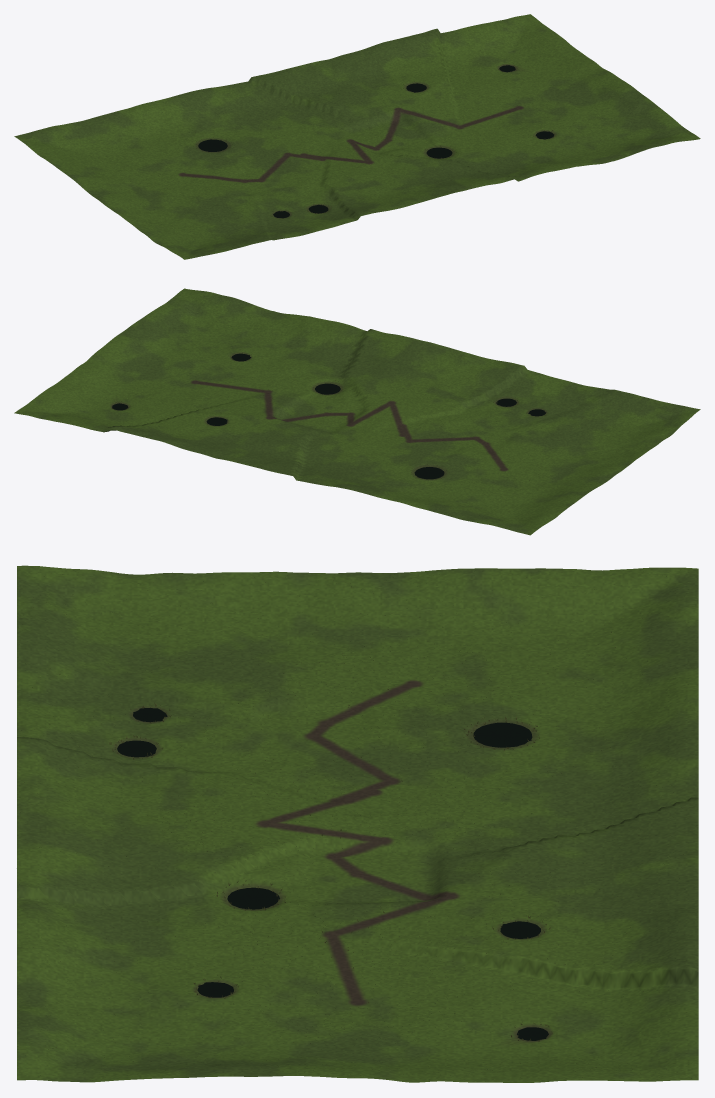
File: SM_Art_Terrain_L_HoldersWake.gltf
The picture shows the model from 3 angles, top to bottom: view 1: azimuth 30°, elevation 25°; view 2: azimuth 150°, elevation 25°; view 3: azimuth 270°, elevation 25°; orthographic projection. The views are drawn at different scales.
Visible parts, largest first — view 1: SM_Art_Terrain_L_HoldersWake; view 2: SM_Art_Terrain_L_HoldersWake; view 3: SM_Art_Terrain_L_HoldersWake.
Part boxes in pixels (x1=…): SM_Art_Terrain_L_HoldersWake: x1=14, y1=14, x2=700, y2=259; SM_Art_Terrain_L_HoldersWake: x1=14, y1=288, x2=700, y2=535; SM_Art_Terrain_L_HoldersWake: x1=17, y1=565, x2=698, y2=1082.
Size of the model in its own units: 323 by 10.74 by 185.
Materials: 4 (3 with a texture image).
